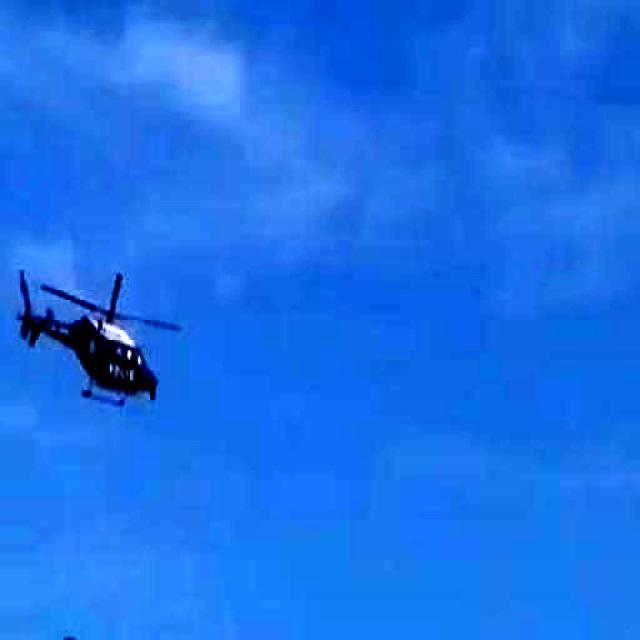drone: (0, 211, 200, 478)
